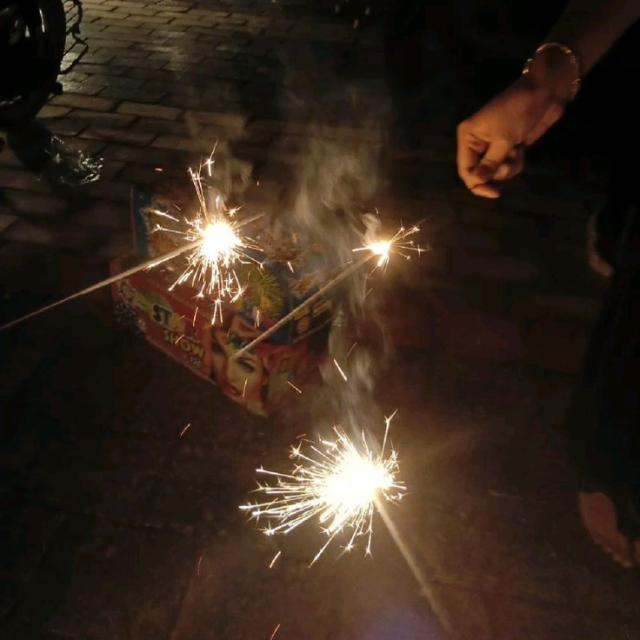fire: (313, 446, 396, 530), (202, 220, 243, 267)
